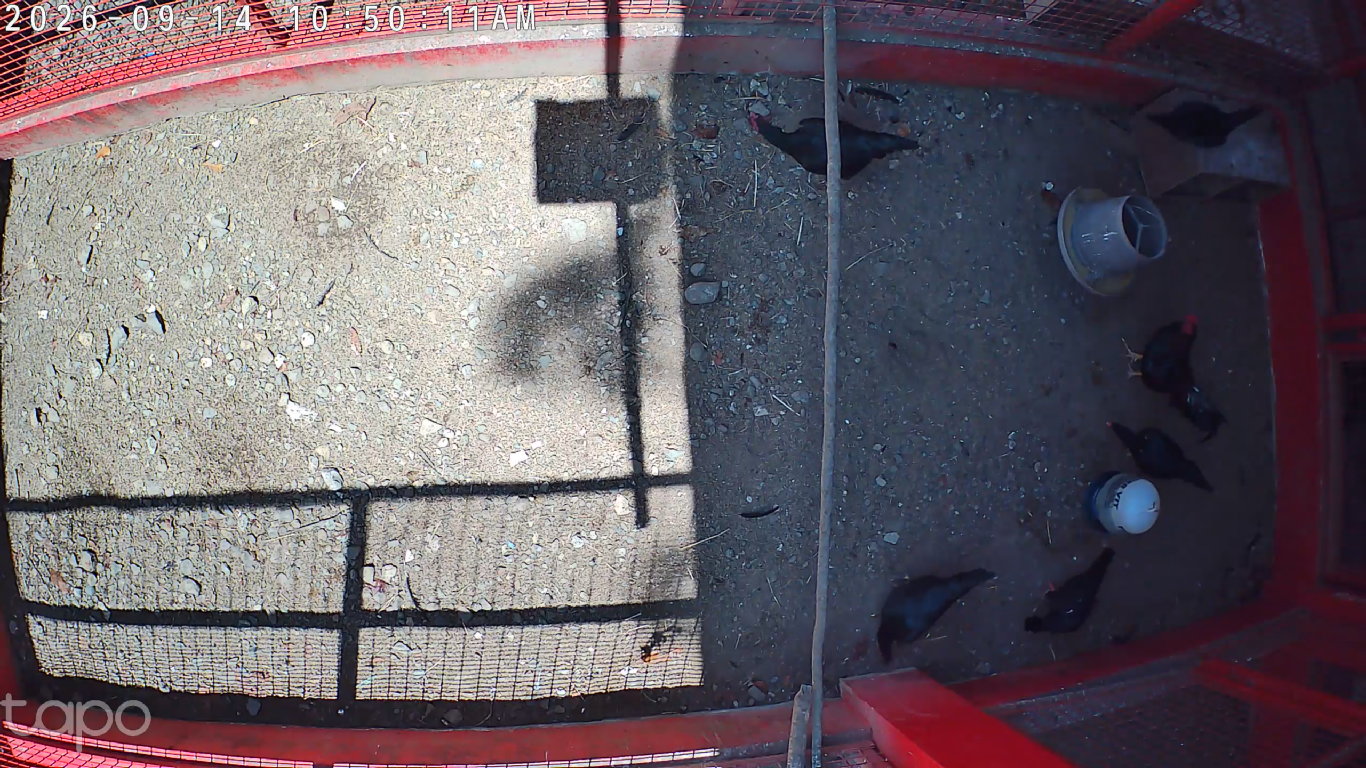Chicken: (745, 107, 925, 182), (875, 566, 997, 669), (1102, 405, 1209, 492), (1024, 548, 1118, 636), (1146, 98, 1268, 151)
Drinker: (1086, 466, 1160, 541)
Feeder: (1055, 177, 1173, 301)
Rooster: (1116, 307, 1224, 450)
